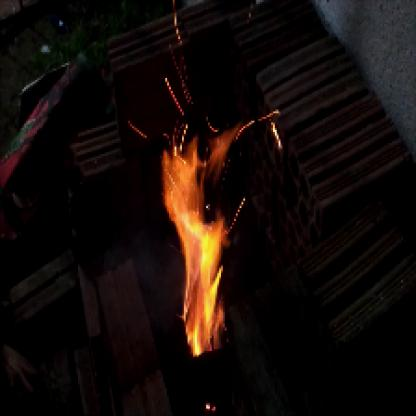Fire: (154, 108, 245, 360)
